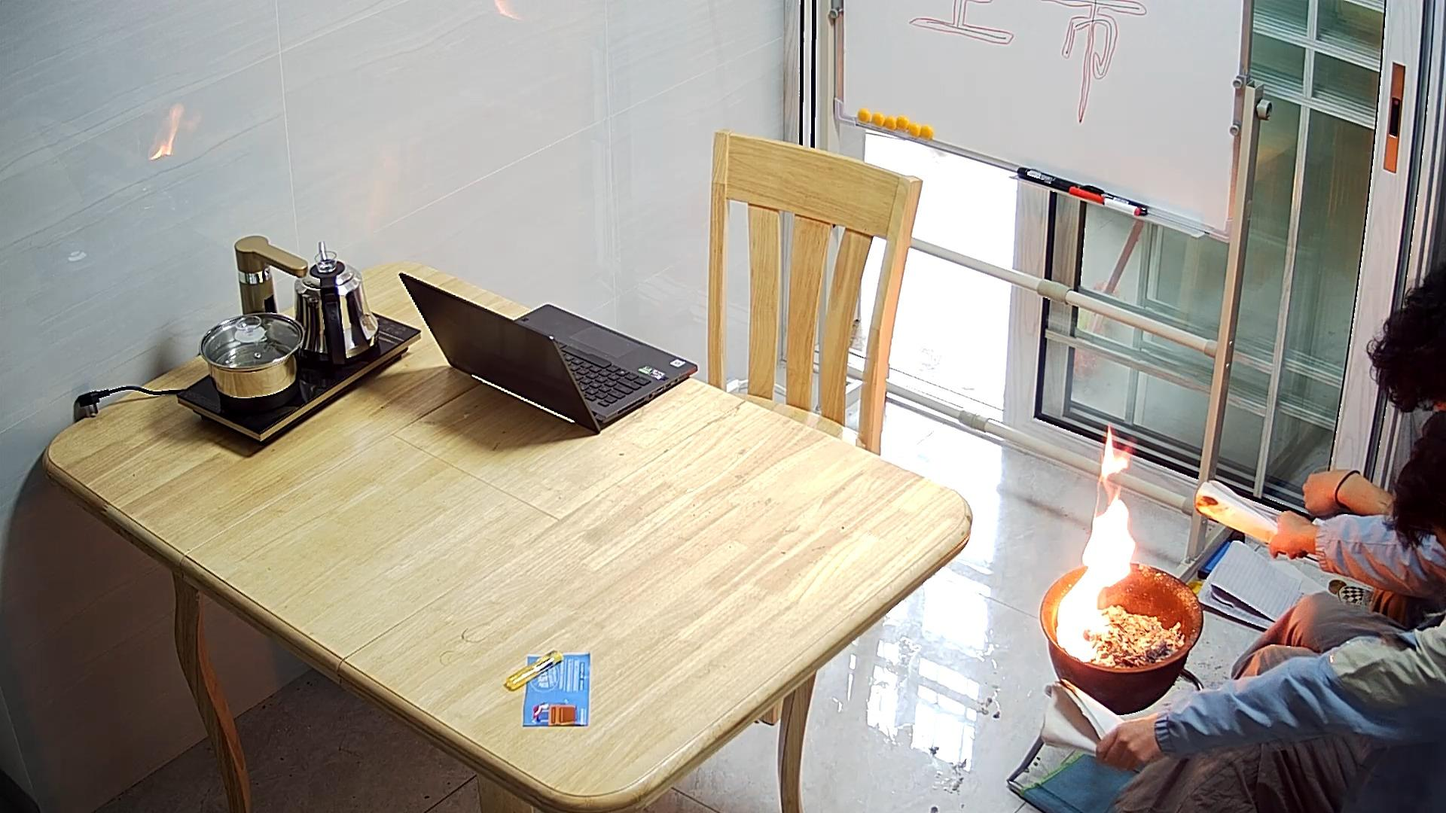fire: (1057, 427, 1135, 659)
